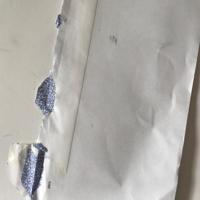paper: (6, 0, 200, 200)
